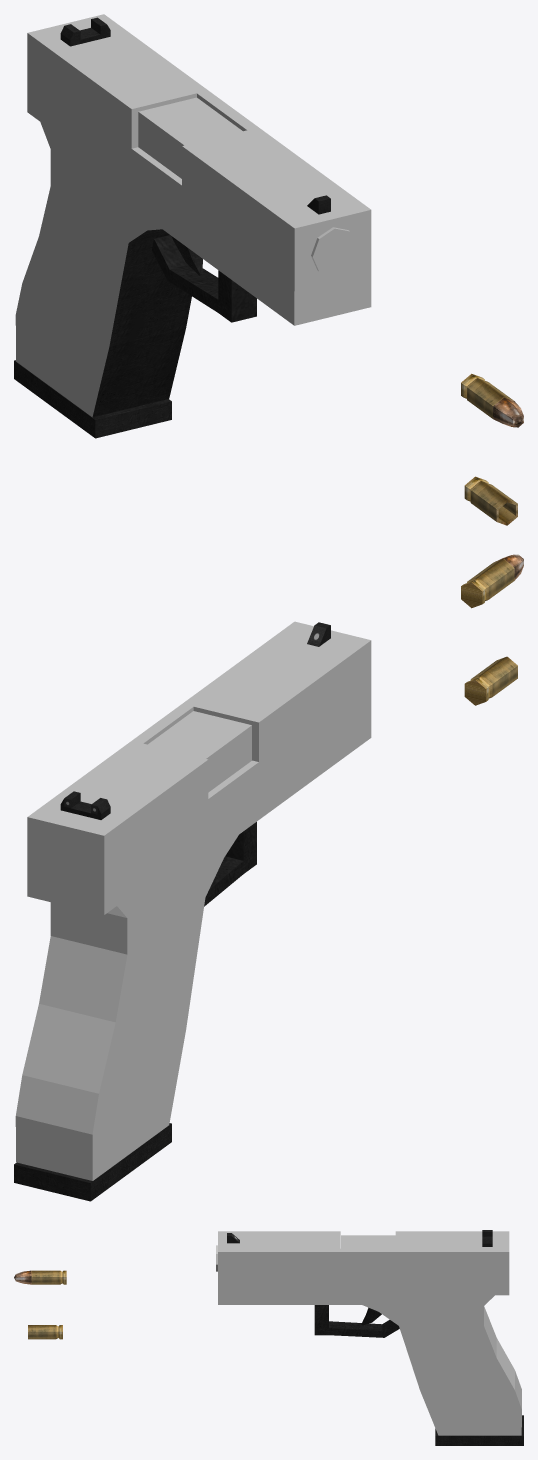
File: Glock.fbx
3 views of the same model, one above another, from view 1: azimuth 30°, elevation 25°; view 2: azimuth 150°, elevation 25°; view 3: azimuth 270°, elevation 25° (orthographic). The views are drawn at different scales.
Parts seen in each view (by area): view 1: Gun, Culasse, Canon, Magazine, Bullet, Shell, Mire; view 2: Gun, Culasse, Canon, Magazine, Bullet, Shell, Mire; view 3: Gun, Culasse, Magazine, Canon, Bullet, Shell, Mire.
Boxes of the visible parts, box(x1,y1,x2,y2) form: Gun: box(15, 96, 371, 417); Culasse: box(27, 14, 371, 291); Canon: box(138, 97, 356, 274); Magazine: box(14, 360, 171, 438); Bullet: box(461, 373, 523, 427); Shell: box(464, 476, 517, 525); Mire: box(60, 17, 330, 214); Gun: box(15, 703, 371, 1180); Culasse: box(27, 621, 371, 898); Canon: box(148, 711, 251, 792); Magazine: box(14, 1123, 171, 1201); Bullet: box(461, 554, 523, 608); Shell: box(464, 656, 517, 705); Mire: box(60, 622, 330, 819); Gun: box(218, 1286, 521, 1435); Culasse: box(218, 1231, 509, 1285); Magazine: box(435, 1415, 523, 1445); Canon: box(216, 1235, 395, 1271); Bullet: box(14, 1270, 66, 1284); Shell: box(28, 1325, 62, 1339); Mire: box(227, 1230, 492, 1246).
Bounding box in the file's own units: 2.99 × 13.74 × 31.56.
